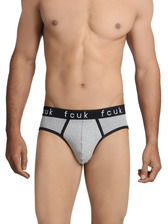clothoes: (38, 103, 135, 168)
